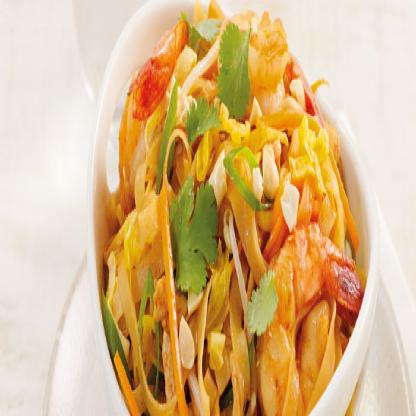Pad Thai: (92, 11, 376, 414)
